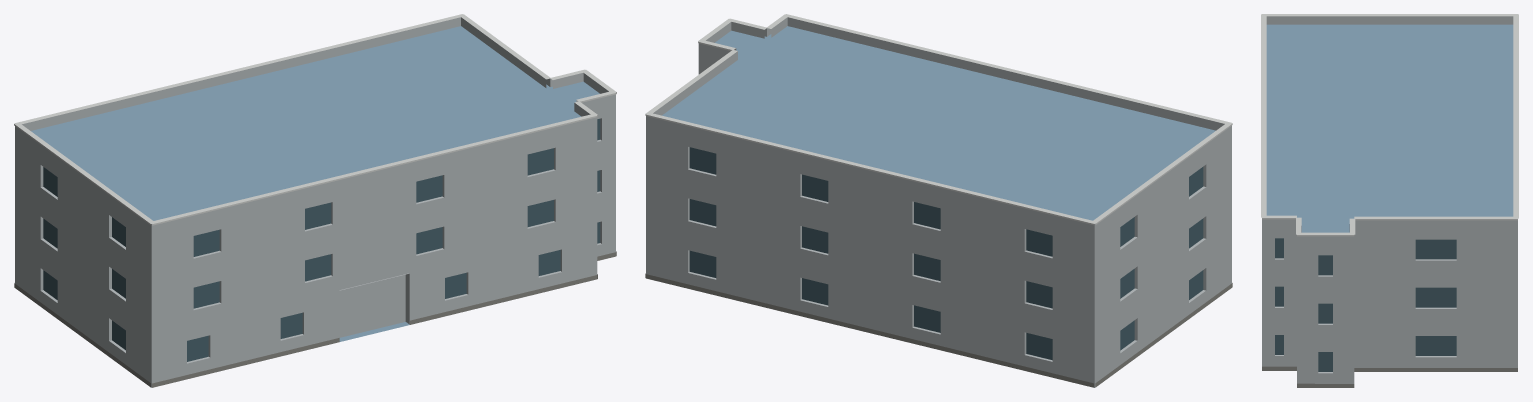
3 views of the same model, side by side, from view 1: azimuth 30°, elevation 25°; view 2: azimuth 150°, elevation 25°; view 3: azimuth 270°, elevation 25° (orthographic). The views are drawn at different scales.
Parts seen in each view (by area): view 1: depot__wall, depot__roof, depot__parapet, depot__glass, depot__trim, depot__base; view 2: depot__wall, depot__roof, depot__parapet, depot__glass, depot__trim, depot__base; view 3: depot__roof, depot__wall, depot__trim, depot__glass, depot__parapet, depot__base.
Part boxes in pixels (left/top/right/bottom): depot__wall: left=15, top=101, right=615, bottom=387; depot__roof: left=31, top=26, right=599, bottom=387; depot__parapet: left=15, top=17, right=615, bottom=232; depot__glass: left=43, top=118, right=600, bottom=361; depot__trim: left=14, top=14, right=616, bottom=225; depot__base: left=14, top=251, right=616, bottom=387; depot__wall: left=646, top=50, right=1231, bottom=387; depot__roof: left=662, top=26, right=1215, bottom=387; depot__parapet: left=646, top=17, right=1231, bottom=232; depot__glass: left=689, top=147, right=1203, bottom=360; depot__trim: left=645, top=14, right=1232, bottom=225; depot__base: left=645, top=273, right=1232, bottom=387; depot__roof: left=1266, top=24, right=1513, bottom=232; depot__wall: left=1262, top=225, right=1517, bottom=383; depot__trim: left=1261, top=14, right=1518, bottom=236; depot__glass: left=1275, top=238, right=1456, bottom=371; depot__parapet: left=1262, top=16, right=1517, bottom=242; depot__base: left=1262, top=366, right=1517, bottom=387.
Size of the model in its own units: 34.37 by 11.12 by 16.95.
